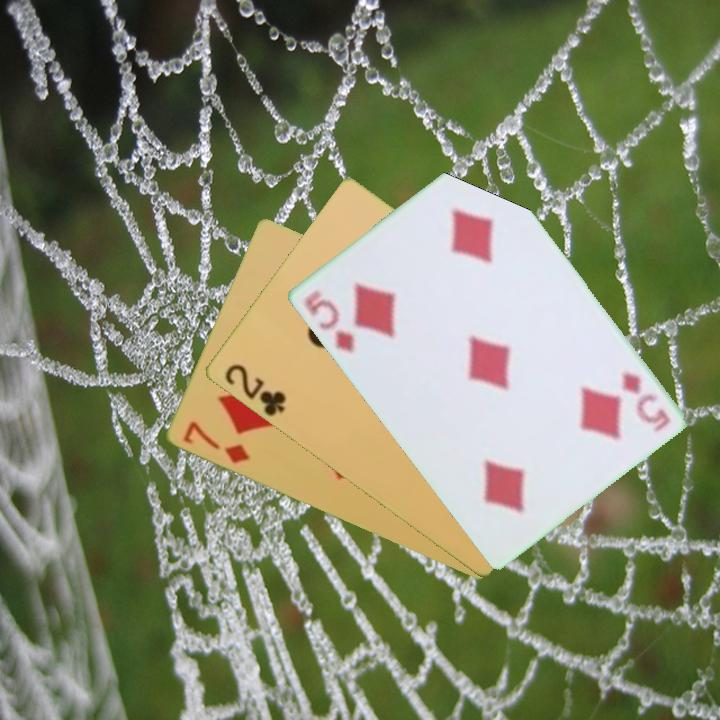2c: (220, 360, 289, 420)
5d: (301, 286, 357, 357), (617, 369, 672, 435)
7d: (179, 418, 252, 467)
